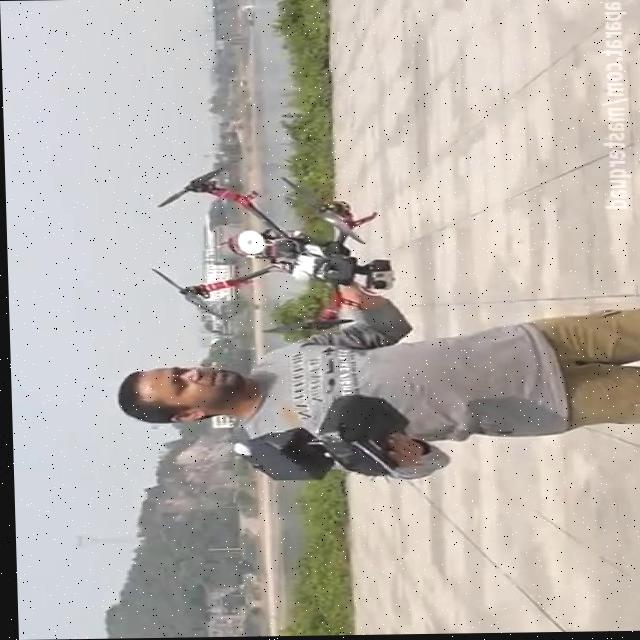drone: (141, 158, 395, 339)
